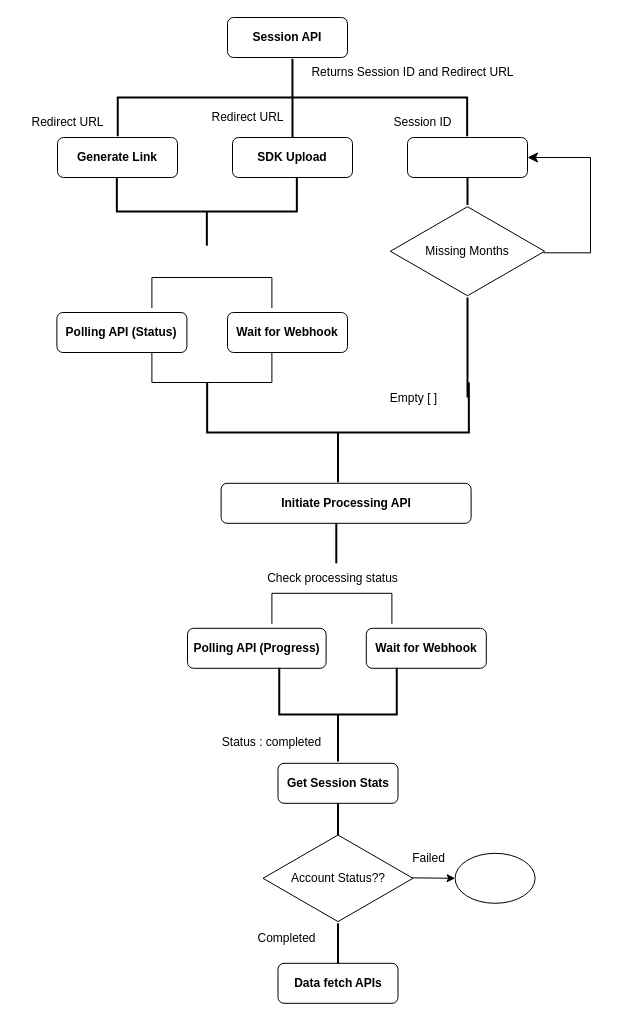
The diagram is 618 pixels wide and 1021 high, and some of its shapes have lost their labels. Here are the shapes that lost their labels. From the top down, the centre of each, then its label:
point (467, 157): Upload API
point (206, 211): Check status
point (494, 877): End
